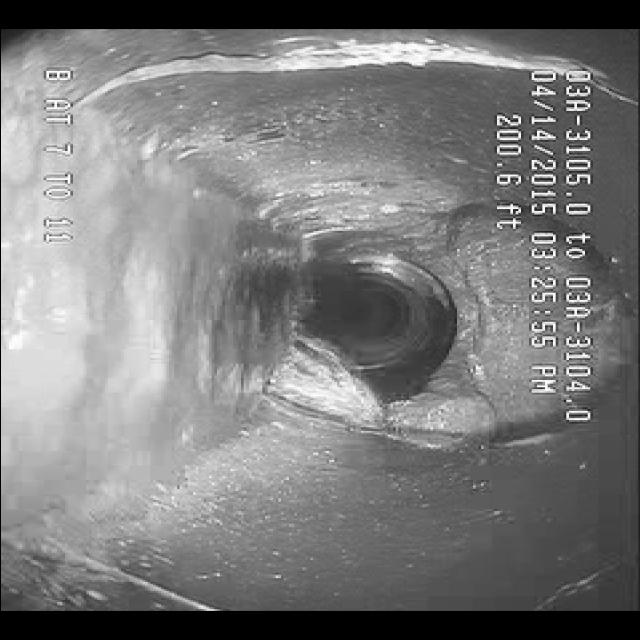Fracture: (109, 36, 498, 114), (282, 381, 502, 468)
